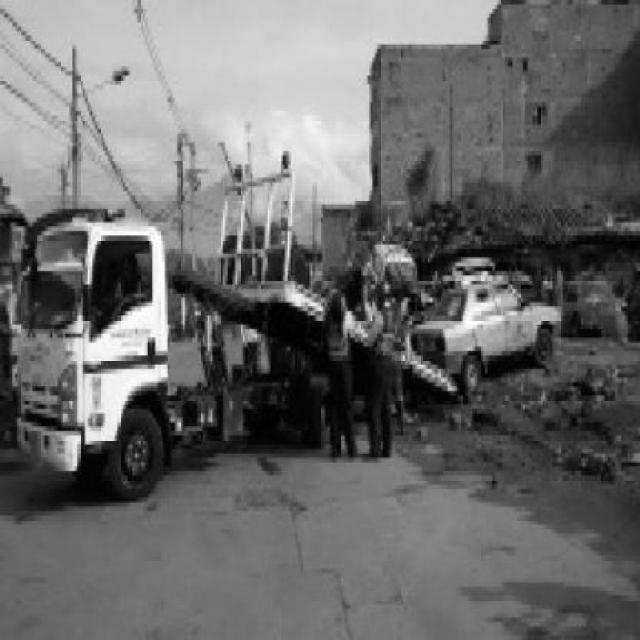Tow Truck: (13, 154, 458, 503)
